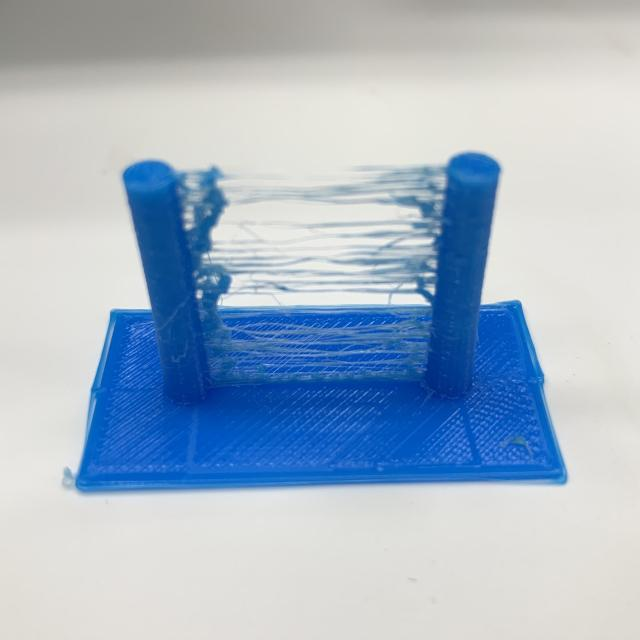stringing: (186, 164, 444, 386)
